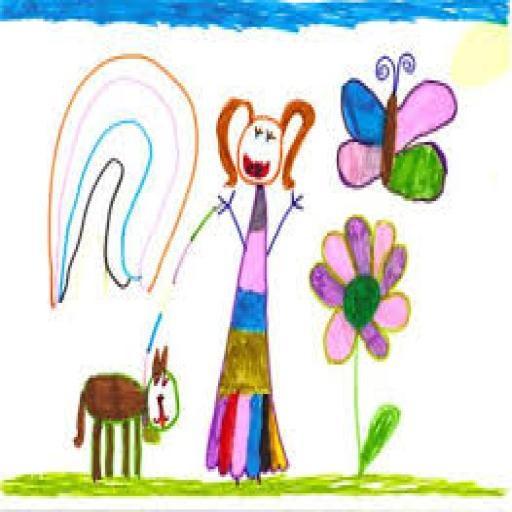person: (198, 76, 318, 494)
